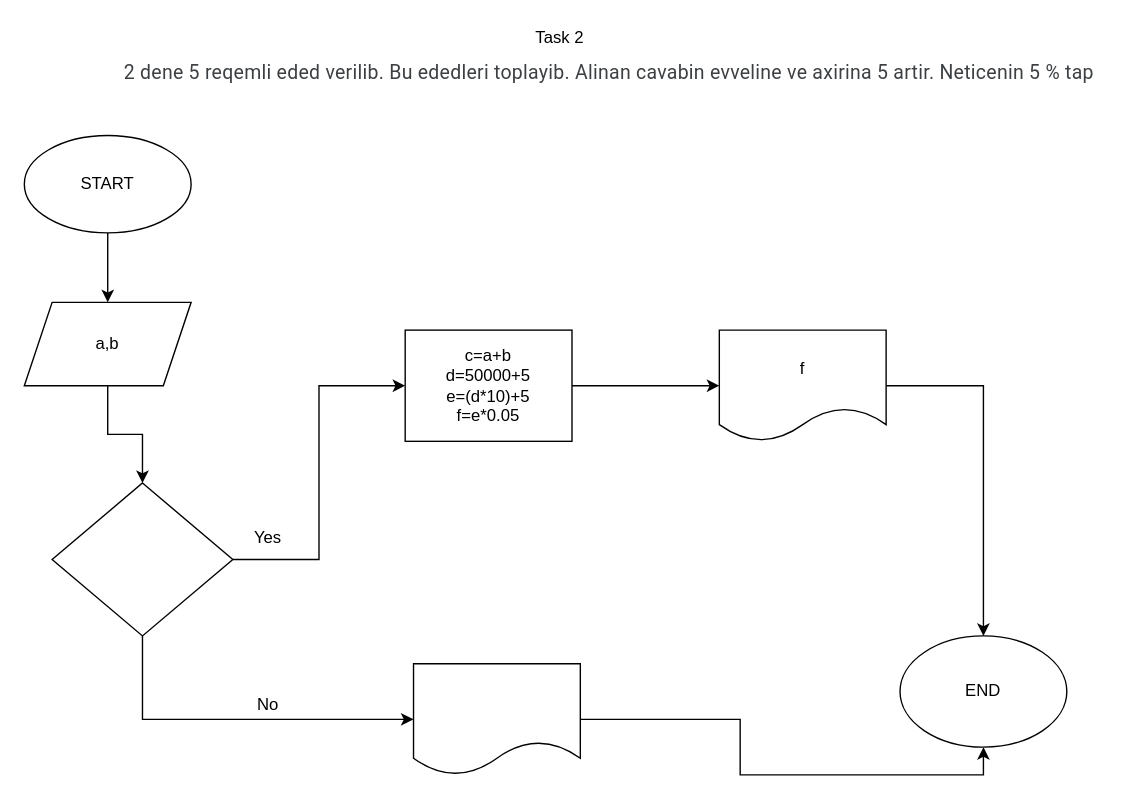
Image size: 1147x810. Some labels were removed from this diagram. Here are the shapes that lost their labels. From the top down, the centre of each, then its label:
At point 142,559: "a,b>=10000 a,b<=100000".
At point 496,718: "Yanlishdir".
